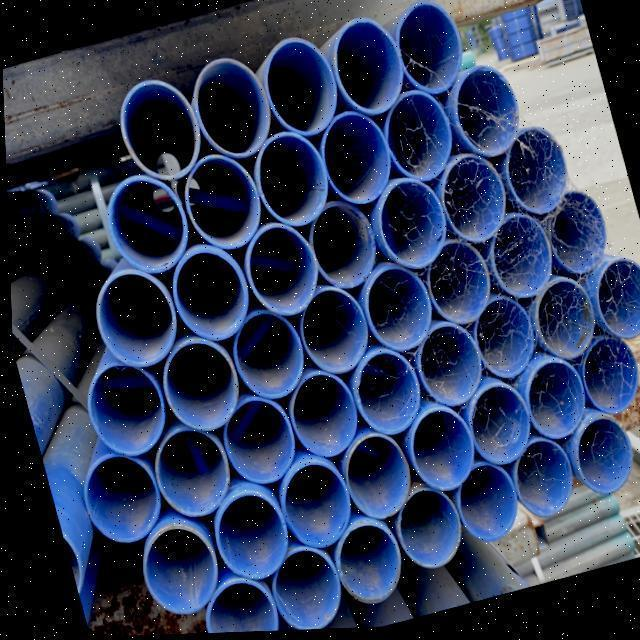pipe: (117, 80, 203, 181), (91, 268, 177, 366), (189, 56, 272, 157), (103, 173, 184, 275), (256, 36, 340, 134), (83, 362, 165, 460), (326, 19, 405, 120), (216, 402, 306, 488), (393, 4, 474, 99), (159, 341, 239, 434), (252, 133, 328, 230), (168, 247, 248, 339), (313, 114, 390, 209), (79, 455, 158, 546), (182, 157, 259, 250), (227, 312, 306, 399), (150, 429, 227, 518), (240, 222, 314, 314), (412, 240, 486, 332), (212, 491, 287, 581), (371, 183, 445, 274), (452, 68, 522, 163), (135, 527, 211, 614), (361, 269, 438, 353), (301, 203, 373, 292), (296, 289, 367, 377), (348, 351, 419, 438), (436, 156, 503, 248), (380, 95, 450, 183), (287, 373, 356, 462), (275, 464, 346, 549), (502, 129, 566, 220), (340, 435, 406, 522), (413, 325, 482, 408), (263, 553, 335, 632), (405, 408, 470, 495), (528, 279, 595, 363), (486, 216, 549, 302), (462, 382, 525, 467), (329, 524, 395, 605), (540, 193, 603, 277), (520, 358, 583, 442), (392, 492, 457, 572), (468, 301, 531, 383), (452, 463, 512, 545), (575, 338, 633, 422), (508, 441, 567, 523), (573, 421, 628, 500), (589, 262, 640, 347), (201, 578, 275, 634)
